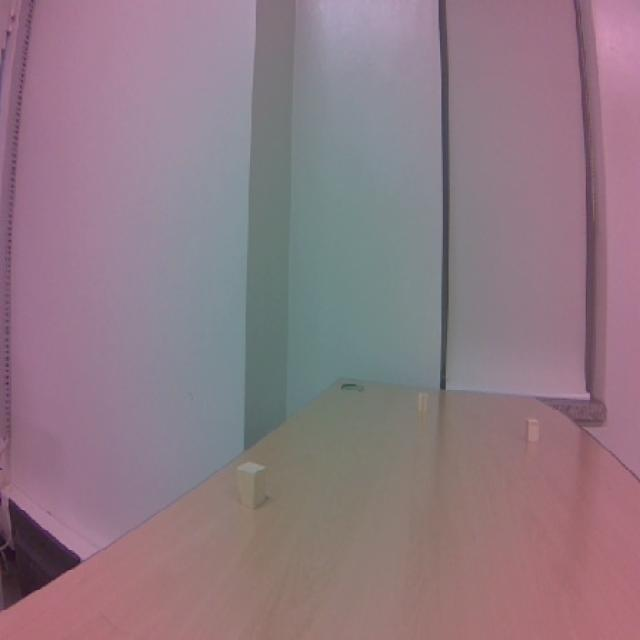obstacle: (228, 452, 283, 516)
